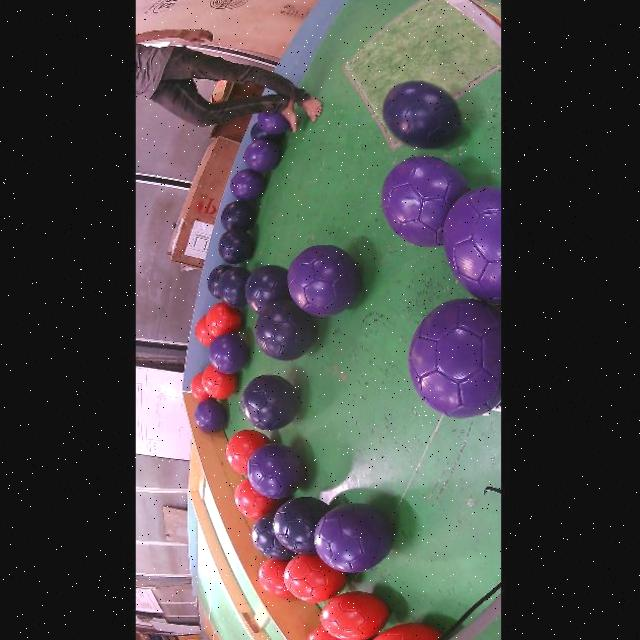B: (381, 81, 459, 150), (253, 299, 314, 360), (271, 496, 329, 555), (239, 374, 297, 430), (243, 265, 289, 313), (249, 513, 295, 560), (216, 268, 249, 308), (216, 228, 252, 264), (219, 200, 253, 231), (205, 265, 230, 299), (248, 123, 281, 142)
P: (407, 298, 499, 418), (380, 156, 467, 247), (441, 188, 500, 305), (313, 504, 393, 572), (286, 245, 359, 316), (246, 444, 304, 499), (207, 332, 247, 374), (242, 139, 279, 172), (192, 398, 225, 433), (229, 169, 263, 200), (256, 113, 287, 134)
R: (319, 591, 388, 640), (281, 555, 345, 603), (233, 478, 283, 520), (224, 430, 268, 476), (256, 558, 291, 598), (200, 364, 237, 400), (204, 302, 241, 338), (372, 623, 440, 640), (188, 372, 209, 402), (194, 317, 213, 346), (305, 626, 340, 640)
